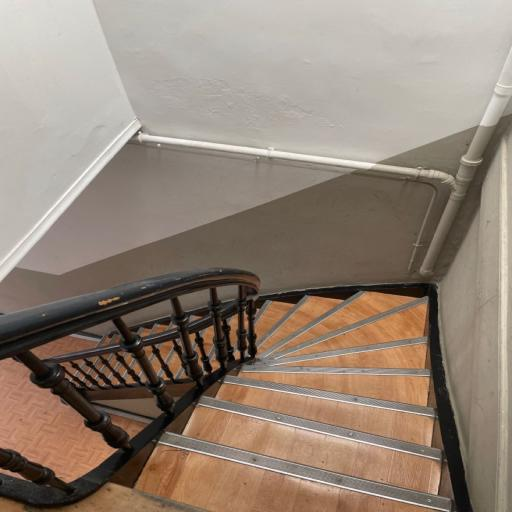sofa: (56, 282, 484, 512)
